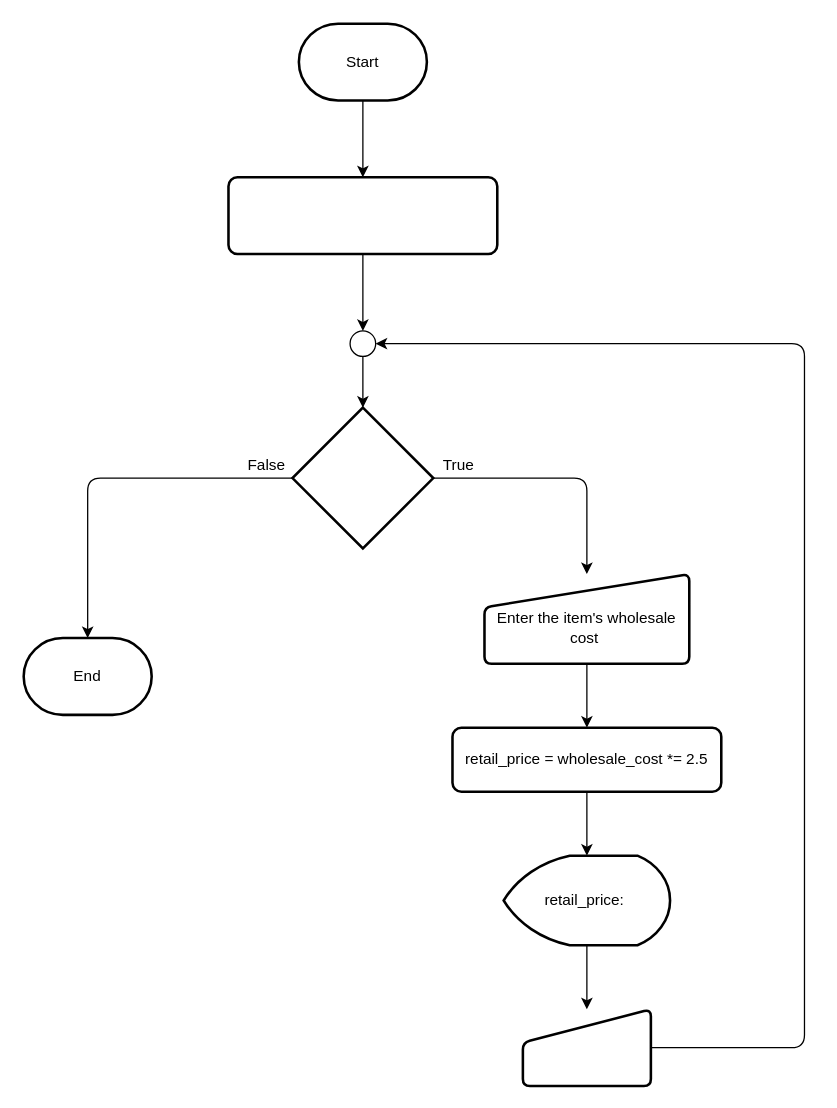
This 837x1108 diagram has some shape labels left out. Here are the shapes that lost their labels. From the top down, the box of each, then its label:
(227, 175, 498, 255): keep_going = y
(291, 406, 434, 549): keep_going == y
(521, 1007, 652, 1087): keep_going
